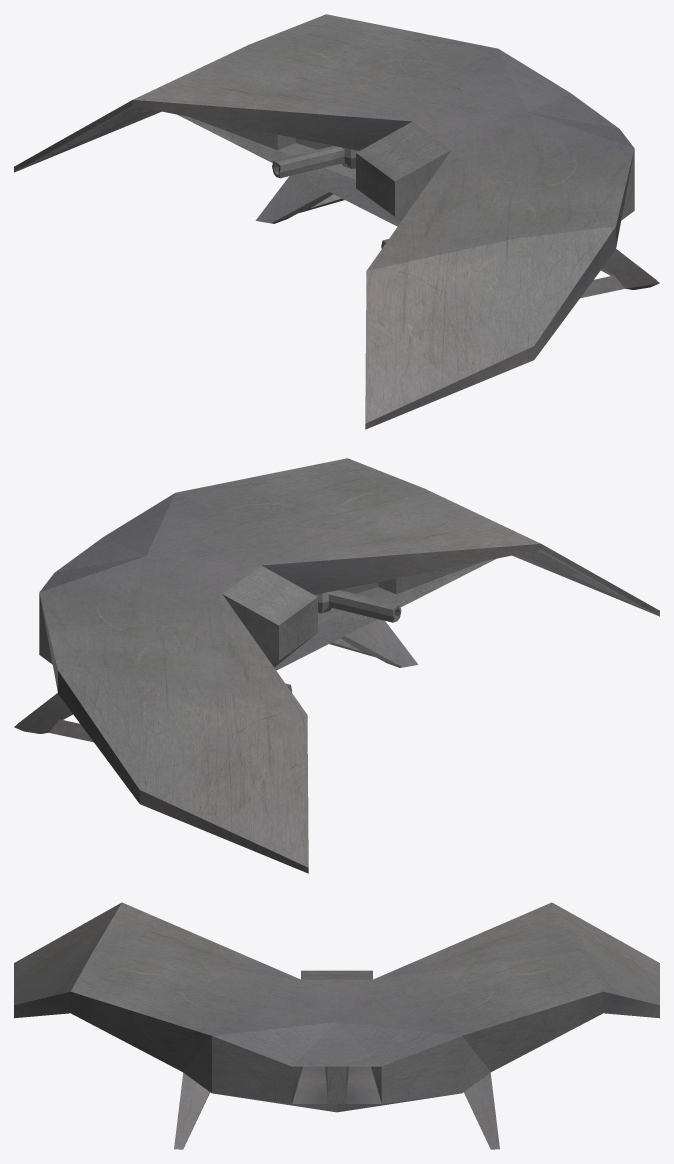
The model's file is AssaultShip.glb.
3 views of the same model, one above another, from view 1: azimuth 30°, elevation 25°; view 2: azimuth 150°, elevation 25°; view 3: azimuth 270°, elevation 25° (orthographic). The views are drawn at different scales.
Parts seen in each view (by area): view 1: Ship, GunR; view 2: Ship, GunL; view 3: Ship.
Boxes of the visible parts, x1=… form: Ship: x1=14, y1=14, x2=659, y2=429; GunR: x1=272, y1=145, x2=358, y2=178; Ship: x1=14, y1=458, x2=659, y2=873; GunL: x1=315, y1=590, x2=401, y2=622; Ship: x1=14, y1=902, x2=659, y2=1149.
Bounding box in the file's own units: 12 × 3.59 × 18.
Materials: 2 (2 with a texture image).
